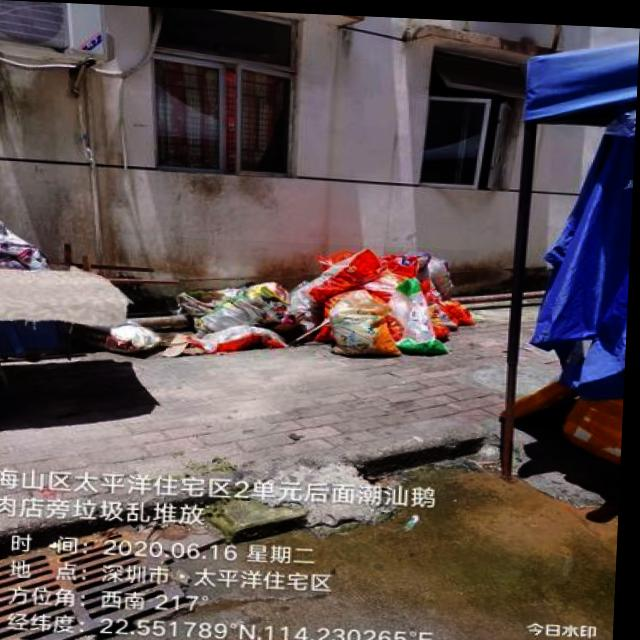garbage: (162, 235, 480, 363)
